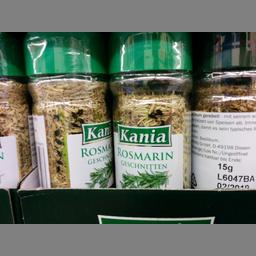spices: (21, 31, 112, 186), (108, 32, 190, 187), (191, 32, 255, 190)
